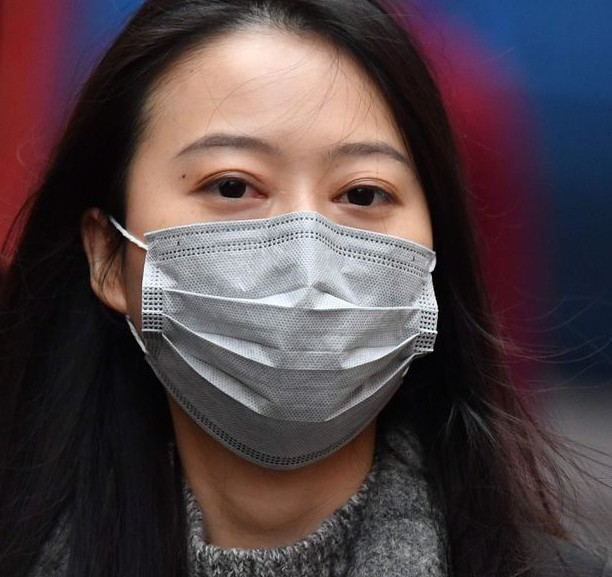with_mask: (108, 39, 441, 475)
